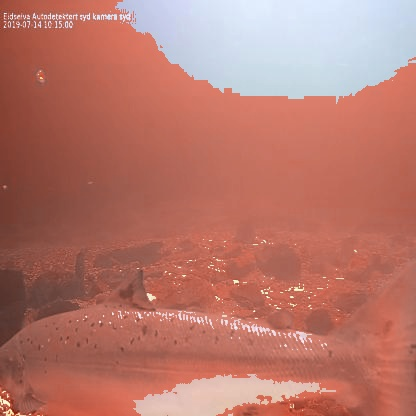salmon: (0, 254, 416, 416)
